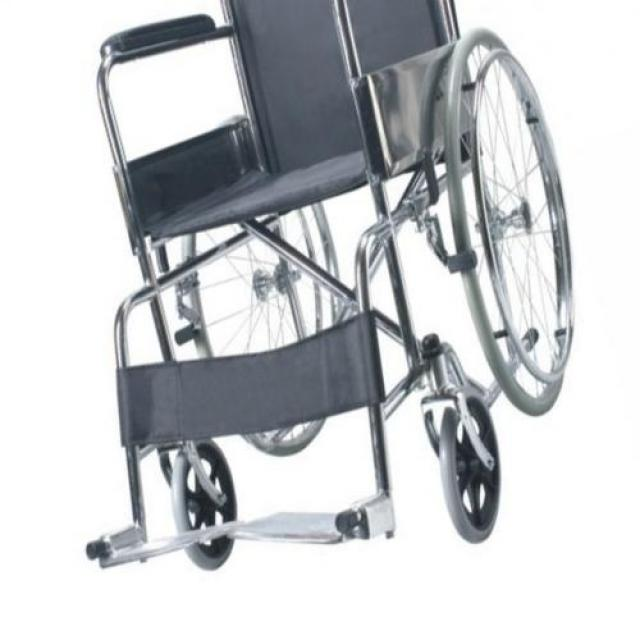wheelchair: (66, 0, 584, 586)
